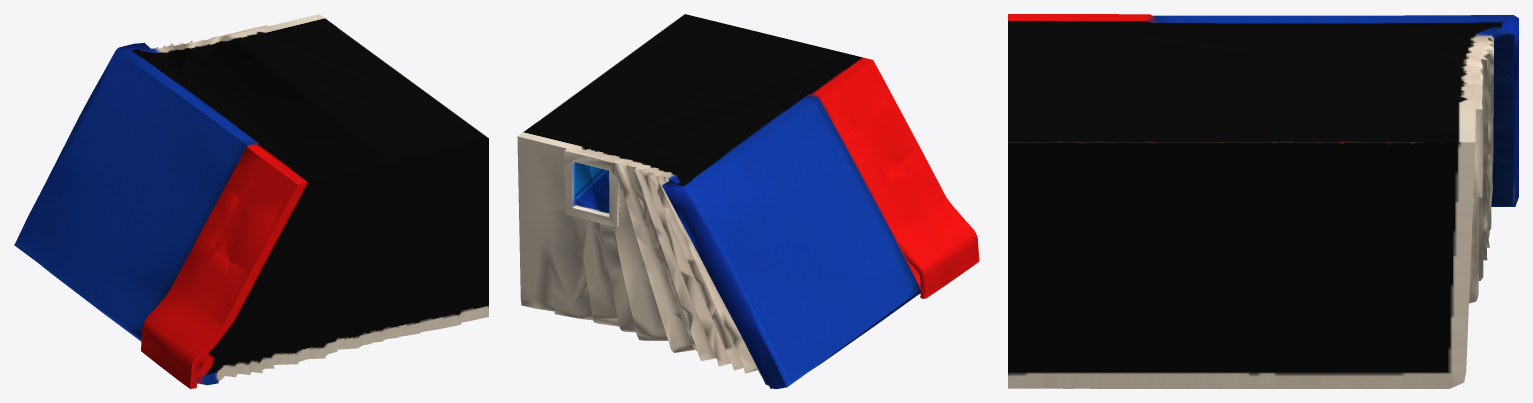
File: 3-ground-floor-back-left.fbx
3 views of the same model, side by side, from view 1: azimuth 30°, elevation 25°; view 2: azimuth 150°, elevation 25°; view 3: azimuth 270°, elevation 25° (orthographic). The views are drawn at different scales.
Parts seen in each view (by area): view 1: ground-floor-back-left; view 2: ground-floor-back-left; view 3: ground-floor-back-left.
Boxes of the visible parts, box(x1,y1,x2,y2) form: ground-floor-back-left: box(14, 14, 488, 388); ground-floor-back-left: box(517, 14, 979, 388); ground-floor-back-left: box(1008, 14, 1518, 388).
Bounding box in the file's own units: 9013 × 5200 × 9687.
1 material, 1 textured.
